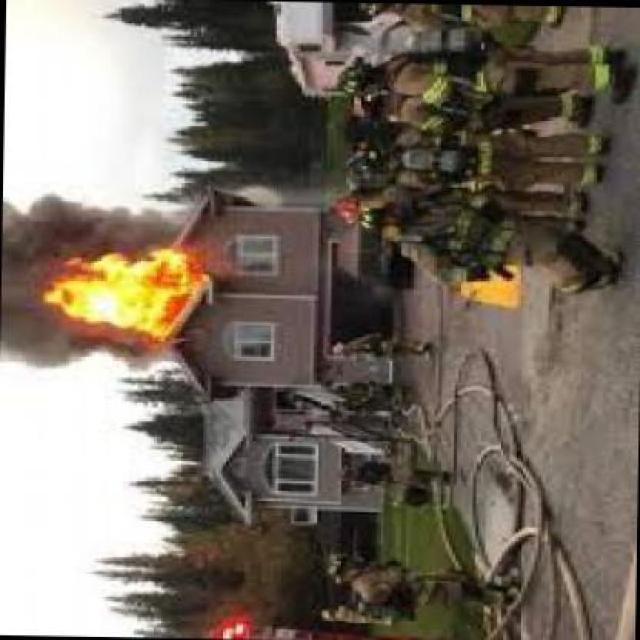Fire: (49, 248, 207, 339)
Smoke: (45, 198, 212, 256), (1, 196, 52, 375)
